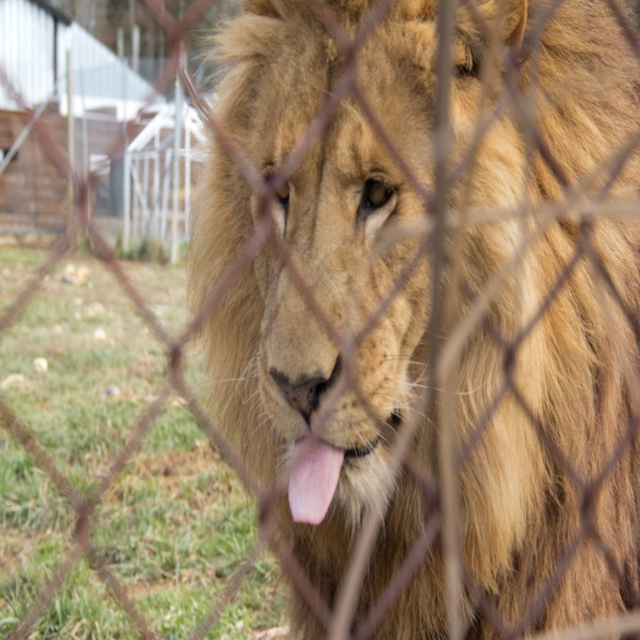Lion: (183, 0, 640, 640)
